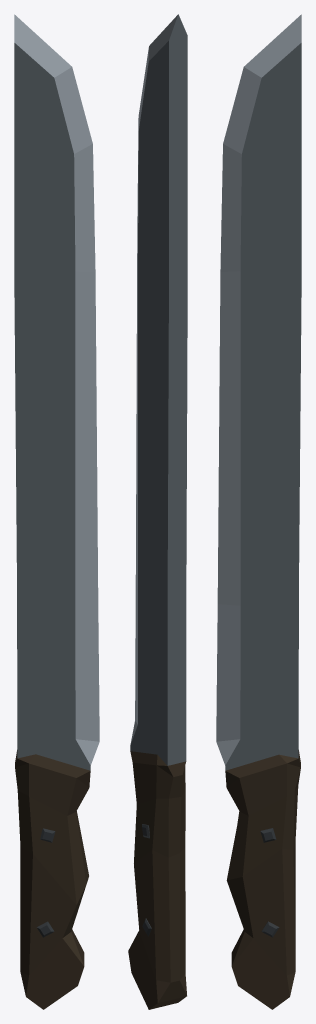
File: SM_Wep_Machete_01.fbx
3 views of the same model, side by side, from view 1: azimuth 90°, elevation 25°; view 2: azimuth 210°, elevation 25°; view 3: azimuth 270°, elevation 25° (orthographic).
Visible parts, largest first — view 1: SM_Wep_Machete_01; view 2: SM_Wep_Machete_01; view 3: SM_Wep_Machete_01.
Boxes of the visible parts, x1,y1,x2,y2 form: SM_Wep_Machete_01: [14, 14, 99, 1009]; SM_Wep_Machete_01: [128, 14, 187, 1009]; SM_Wep_Machete_01: [216, 14, 301, 1009].
Bounding box in the file's own units: 3.89 × 110 × 8.61.
